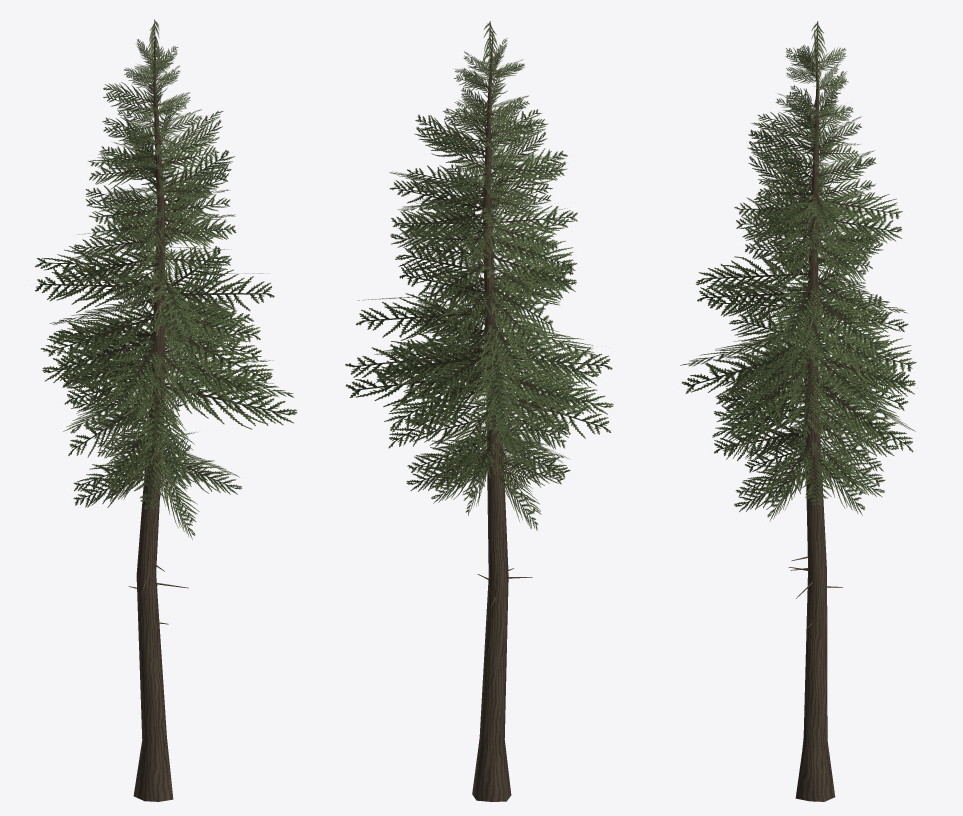
The model's file is dfir.glb.
The picture shows the model from 3 angles, left to right: view 1: azimuth 30°, elevation 25°; view 2: azimuth 150°, elevation 25°; view 3: azimuth 270°, elevation 25°; orthographic projection.
Parts seen in each view (by area): view 1: dfir_lod0_1, dfir_lod0_0; view 2: dfir_lod0_1, dfir_lod0_0; view 3: dfir_lod0_1, dfir_lod0_0.
Boxes of the visible parts, left/top/right/bottom form: dfir_lod0_1: left=34, top=19, right=297, bottom=539; dfir_lod0_0: left=128, top=30, right=188, bottom=801; dfir_lod0_1: left=345, top=21, right=613, bottom=530; dfir_lod0_0: left=472, top=31, right=532, bottom=801; dfir_lod0_1: left=680, top=21, right=917, bottom=521; dfir_lod0_0: left=788, top=30, right=842, bottom=801.
Size of what is drawn, in the model's own units: 11.14 by 31.86 by 10.78.
Materials: 2 (2 with a texture image).
